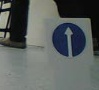forward: (52, 22, 88, 57)
